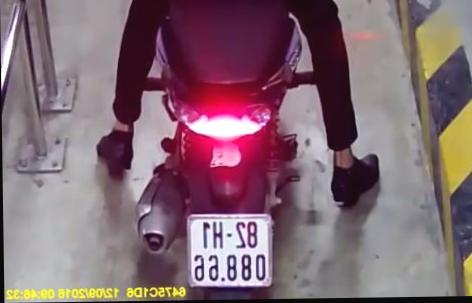License_Plate: (180, 206, 281, 294)
